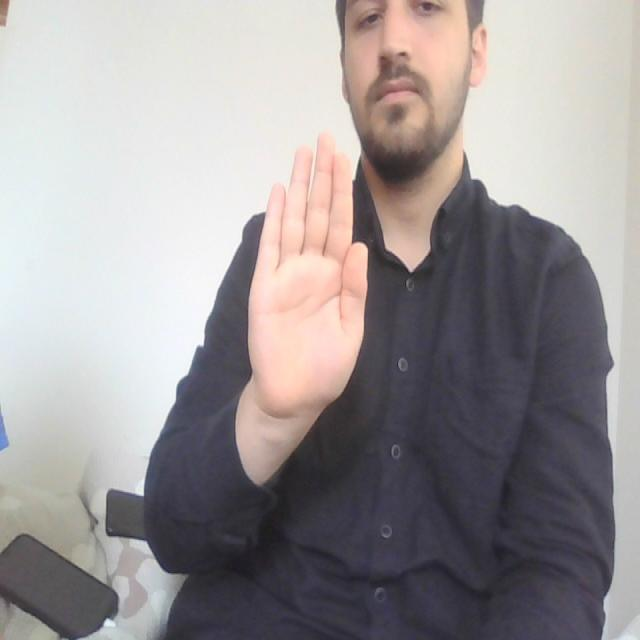Dur: (225, 122, 402, 458)
